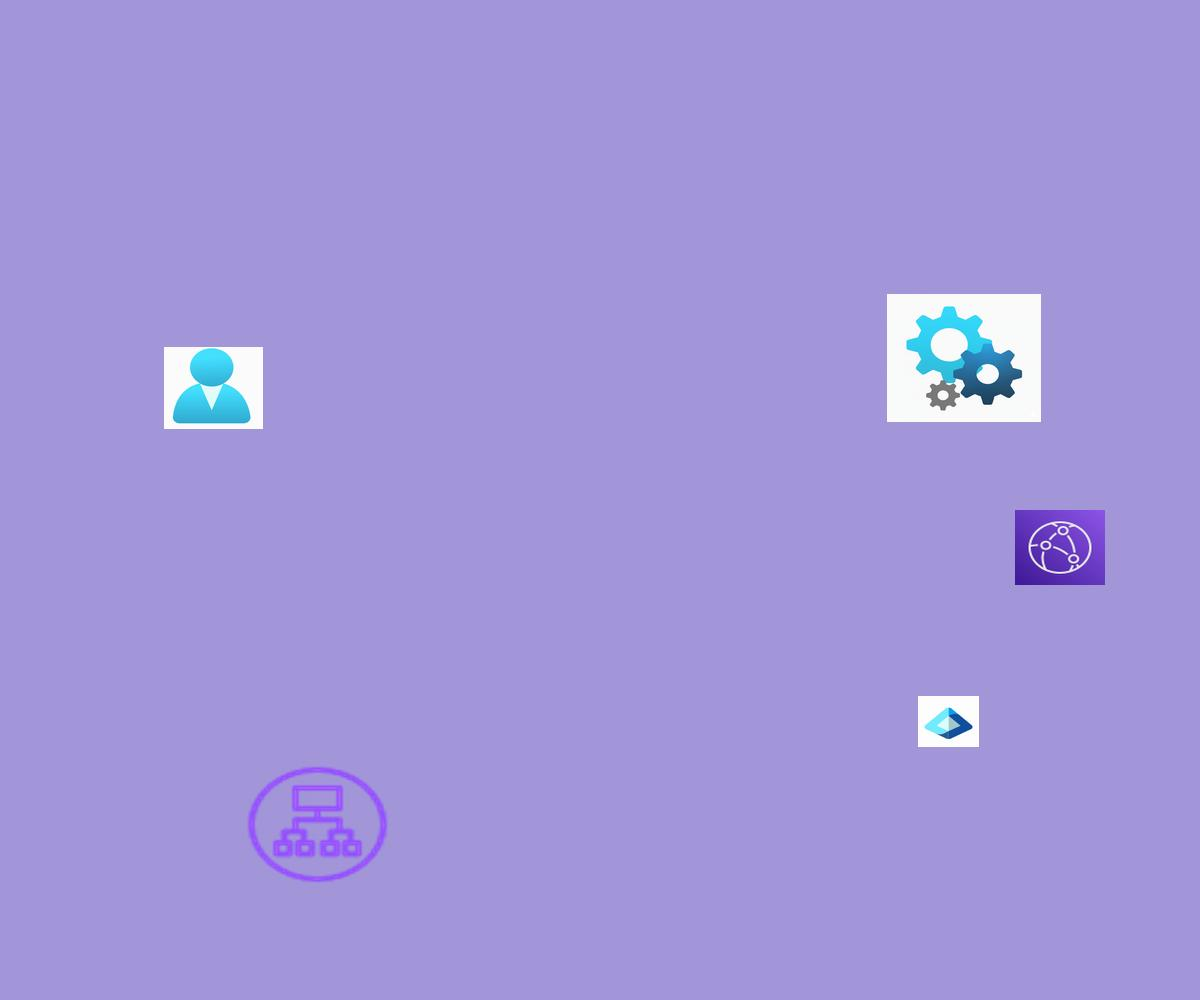AWS-CloudFront: (1015, 510, 1105, 585)
AWS-Res_Elastic-Load-Balancing_Application-Load-Balancer: (242, 762, 393, 887)
Azure_api: (887, 294, 1041, 422)
Azure_microsoft_entra: (918, 696, 979, 747)
Azure_users: (164, 347, 263, 429)
